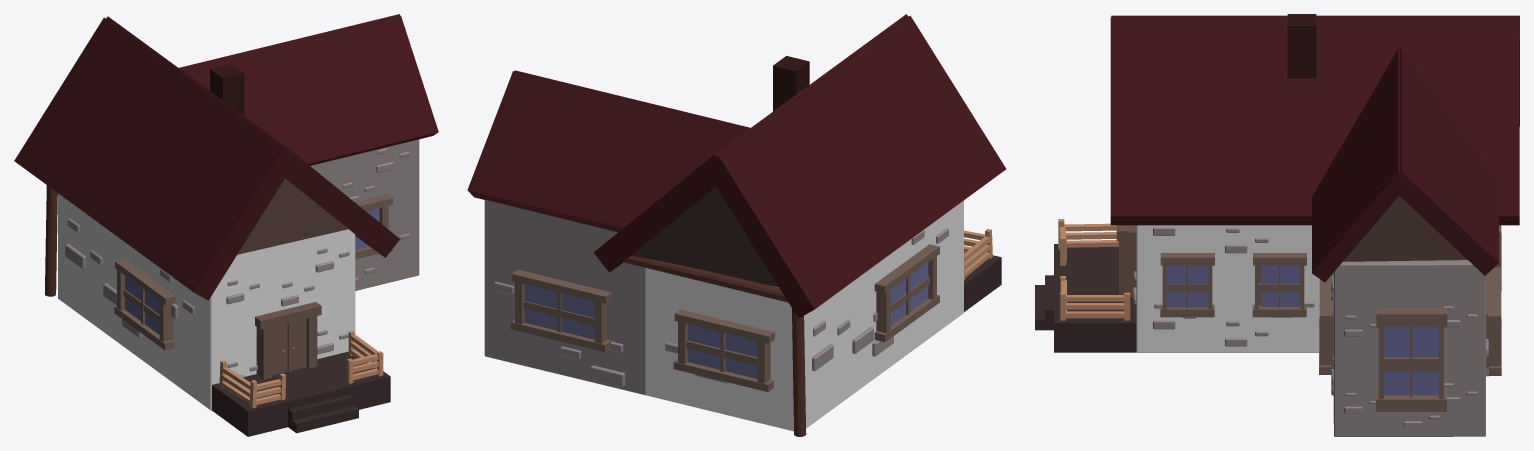
Rendered from houselowpoly.fbx.
3 views of the same model, side by side, from view 1: azimuth 30°, elevation 25°; view 2: azimuth 150°, elevation 25°; view 3: azimuth 270°, elevation 25° (orthographic). The views are drawn at different scales.
Visible parts, largest first — view 1: roof, body, stairs, Cube.001, door, Cone.001, fence, schornstein, Cylinder; view 2: roof, body, Cube.001, Cone.001, Cylinder, schornstein, stairs, fence; view 3: roof, body, Cube.001, stairs, Cone.001, fence, schornstein, door.
Part boxes in pixels (x1,y1,x2,y2): roof: (14,14,438,300); body: (58,139,419,410); stairs: (212,351,390,436); Cube.001: (114,194,392,350); door: (255,302,321,379); Cone.001: (237,178,348,254); fence: (219,330,383,408); schornstein: (210,64,244,115); Cylinder: (45,185,57,296); roof: (467,14,1006,318); body: (484,199,963,431); Cube.001: (510,244,939,391); Cone.001: (631,187,778,287); Cylinder: (623,255,806,436); schornstein: (773,56,809,111); stairs: (964,255,1001,311); fence: (964,229,992,280); roof: (1110,15,1519,282); body: (1132,225,1488,436); Cube.001: (1160,225,1501,411); stairs: (1035,244,1136,352); Cone.001: (1343,195,1467,261); fence: (1058,219,1130,320); schornstein: (1287,14,1316,78); door: (1116,225,1136,297).
Size of the model in its own units: 139 by 105 by 152.
